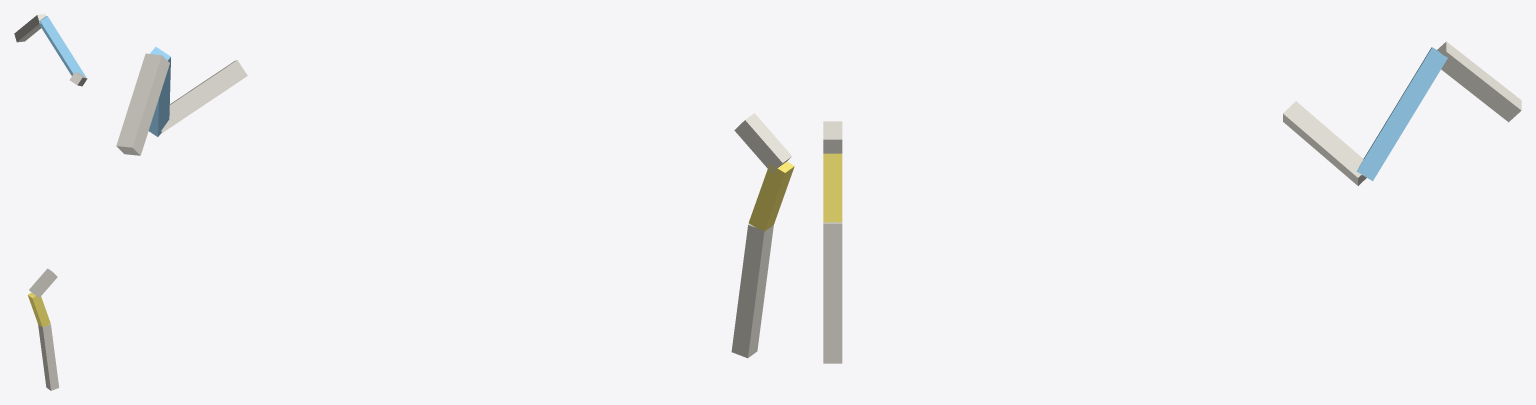
3 views of the same model, side by side, from view 1: azimuth 30°, elevation 25°; view 2: azimuth 150°, elevation 25°; view 3: azimuth 270°, elevation 25° (orthographic). The views are drawn at different scales.
Parts seen in each view (by area): view 1: t30_g10_p3; view 2: t30_g10_p3; view 3: t30_g10_p3.
Boxes of the visible parts, box(x1,y1,x2,y2) form: t30_g10_p3: box(14, 14, 87, 390); t30_g10_p3: box(116, 47, 794, 358); t30_g10_p3: box(823, 41, 1521, 363).
Size of the model in its own units: 4.13 by 4.75 by 6.6.
